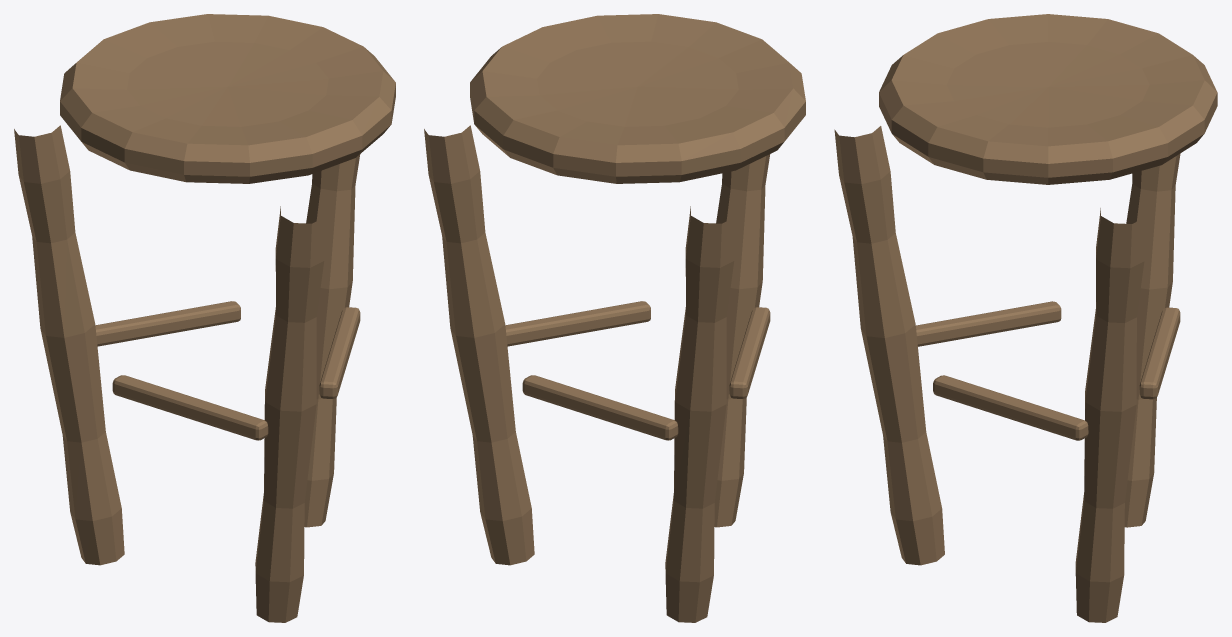
The model's file is scribes_stool.glb.
The picture shows the model from 3 angles, left to right: view 1: azimuth 30°, elevation 25°; view 2: azimuth 150°, elevation 25°; view 3: azimuth 270°, elevation 25°; orthographic projection.
Parts seen in each view (by area): view 1: 293-scribes-stool/0; view 2: 293-scribes-stool/0; view 3: 293-scribes-stool/0.
Boxes of the visible parts, bbox=[...] form: 293-scribes-stool/0: bbox=[14, 14, 395, 622]; 293-scribes-stool/0: bbox=[424, 14, 805, 622]; 293-scribes-stool/0: bbox=[834, 14, 1217, 622].
Size of the model in its own units: 1.4 by 2 by 1.43.
